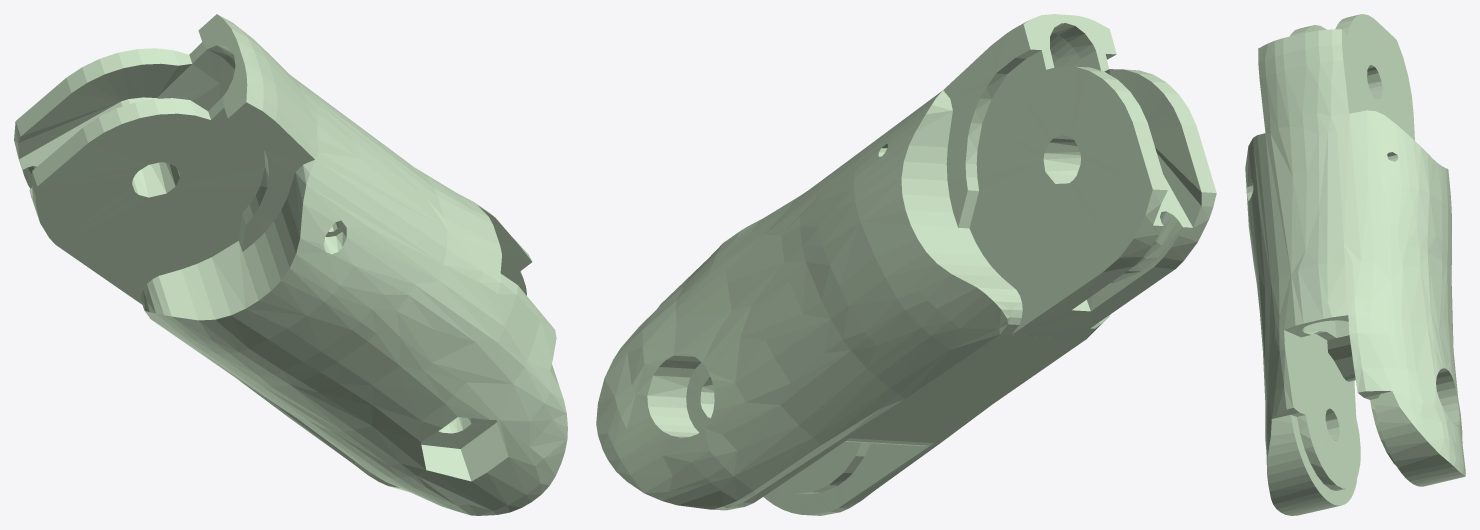
The model's file is i02_leftHand_ThumbMid_visual.obj.light.glb.
The picture shows the model from 3 angles, left to right: view 1: azimuth 30°, elevation 25°; view 2: azimuth 150°, elevation 25°; view 3: azimuth 270°, elevation 25°; orthographic projection. The views are drawn at different scales.
Bounding box in the file's own units: 0.4503 × 0.4356 × 0.2182.
